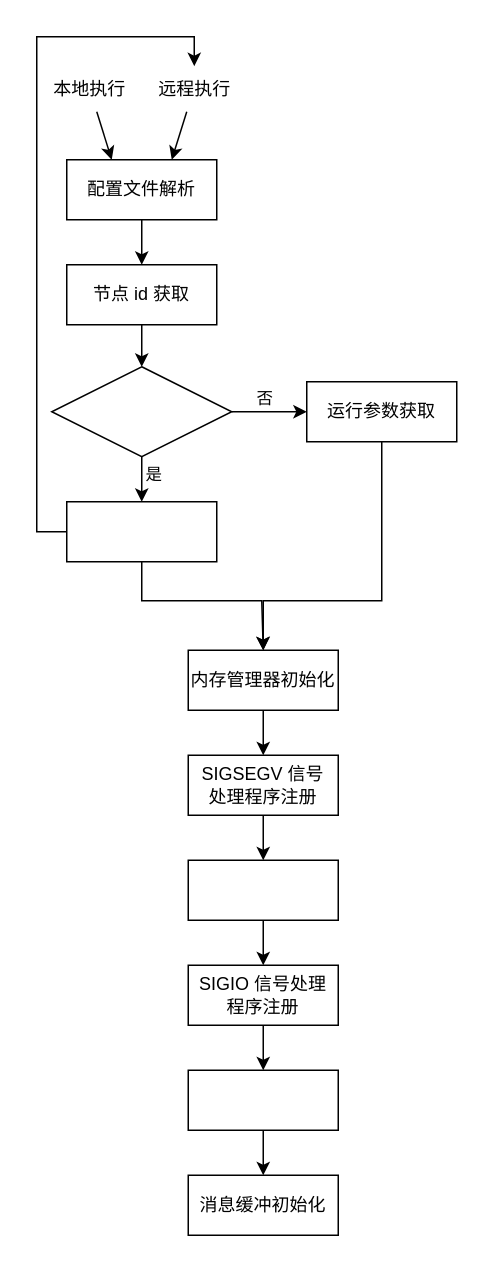
The diagram is 483 pixels wide and 1262 high, and some of its shapes have lost their labels. The box of each missing label's shape, as (x1, y1, x2, y2) in pixels:
同步变量初始化: (187, 859, 338, 920)
文件拷贝并 远程执行程序: (65, 500, 217, 562)
是否为主节点: (50, 365, 232, 457)
通信管理器初始化: (187, 1069, 338, 1130)
